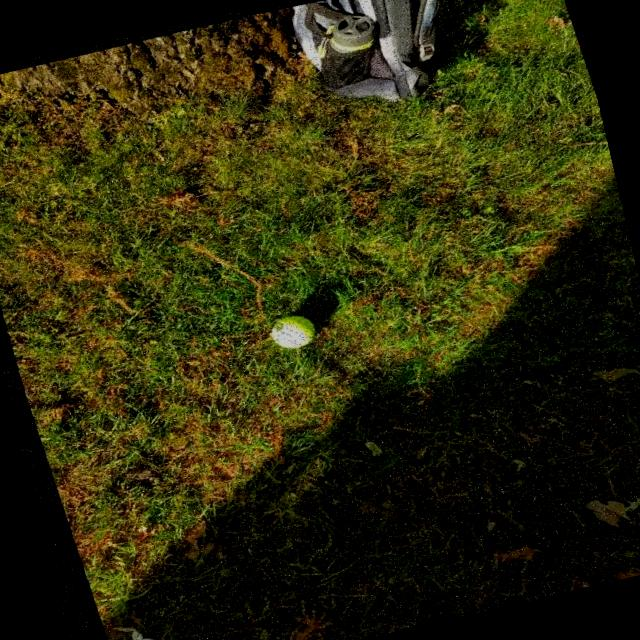tennis-ball: (258, 304, 322, 364)
